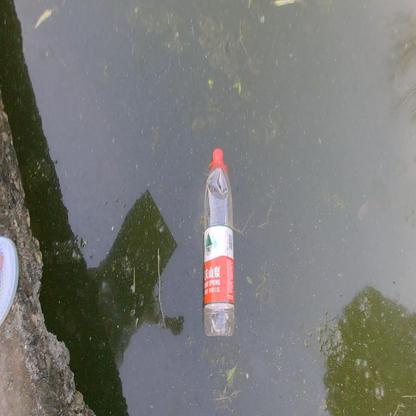plastic bottle: (203, 147, 237, 336)
